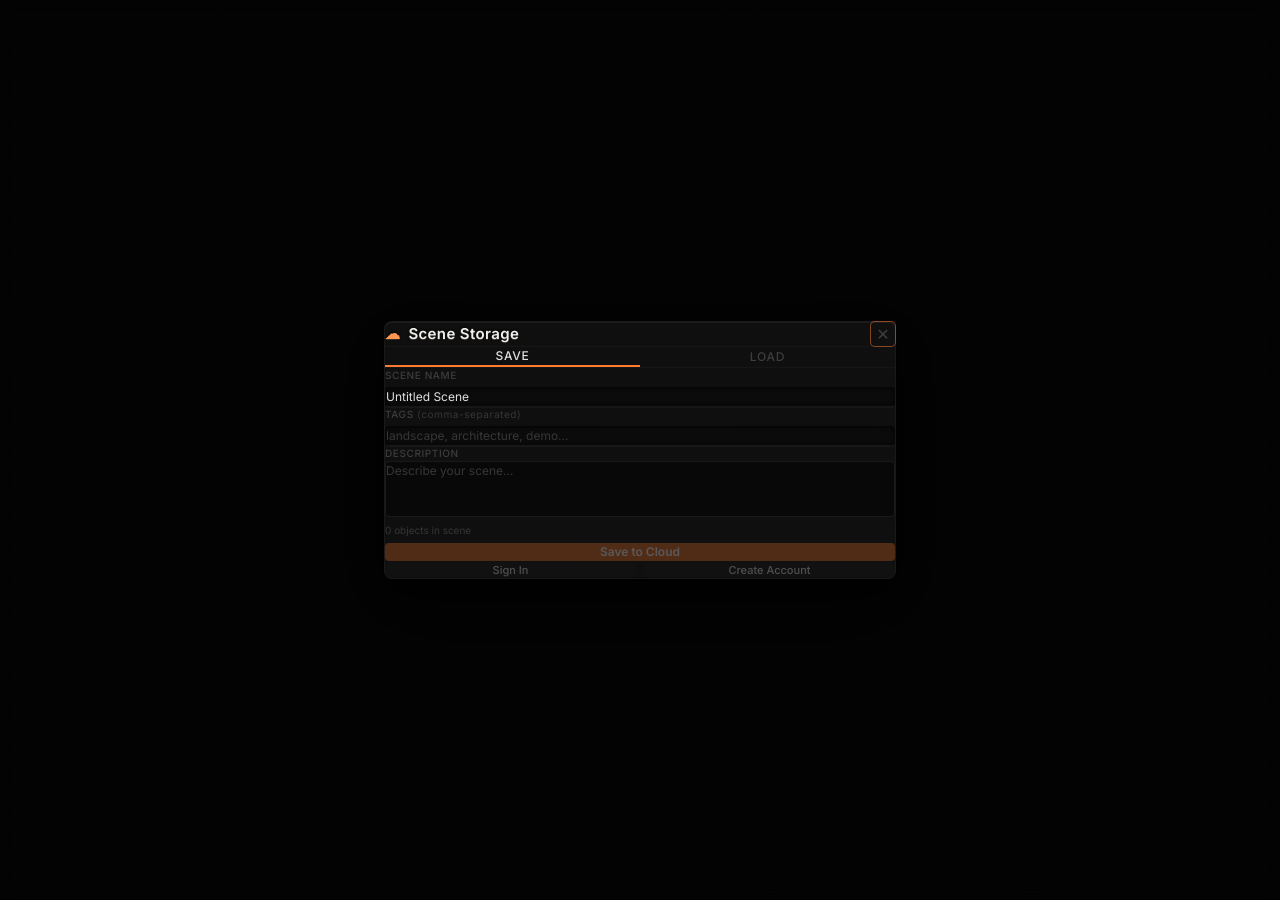
CloudSaveModal › clicking Load tab switches to Load panel
What coordinates should you click on to do the following:
click the tab "Load"
I would click on:
 (768, 357)
Its box is [640,347,895,367].
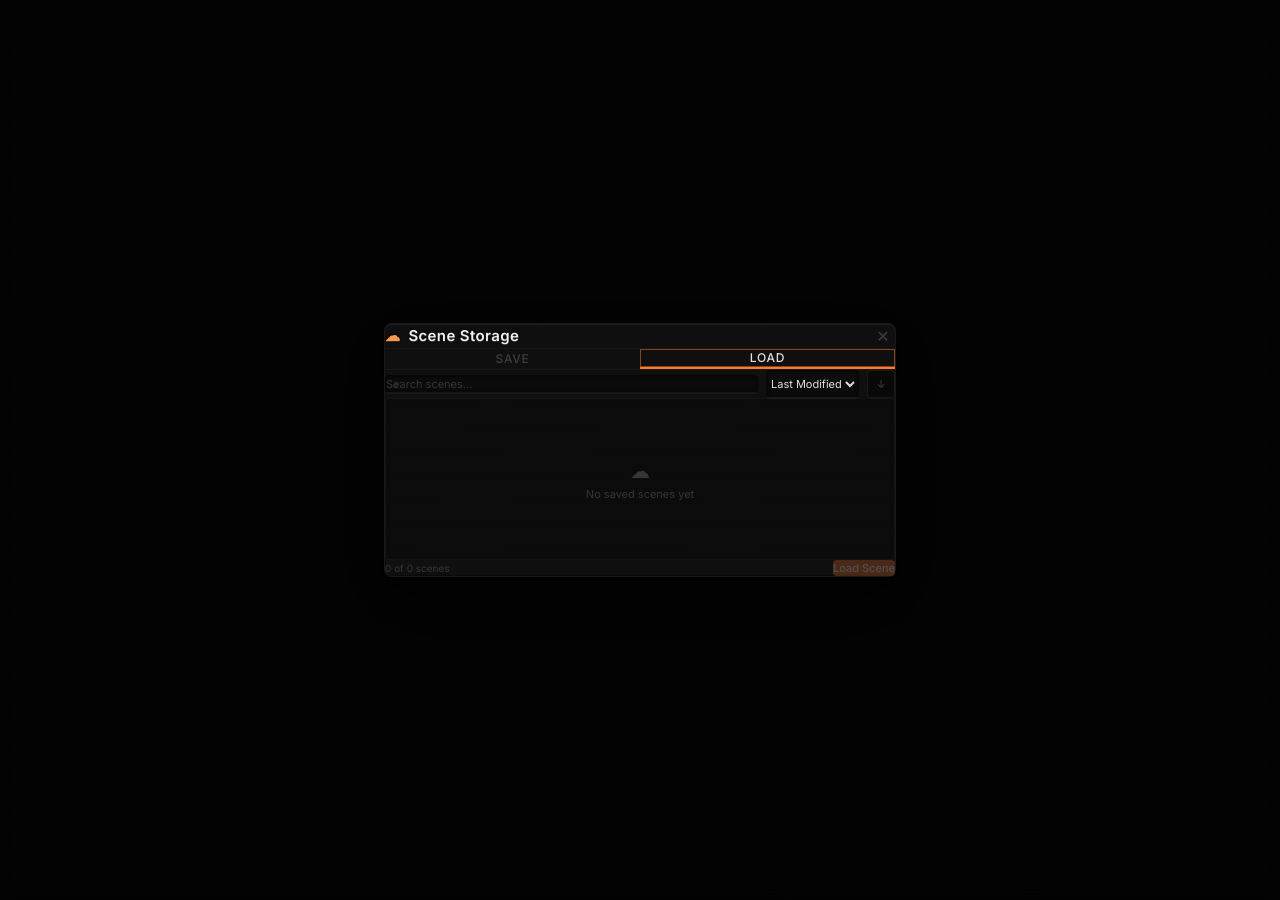
Result: the field named "Search saved scenes" is shown at [385,375,758,393]
